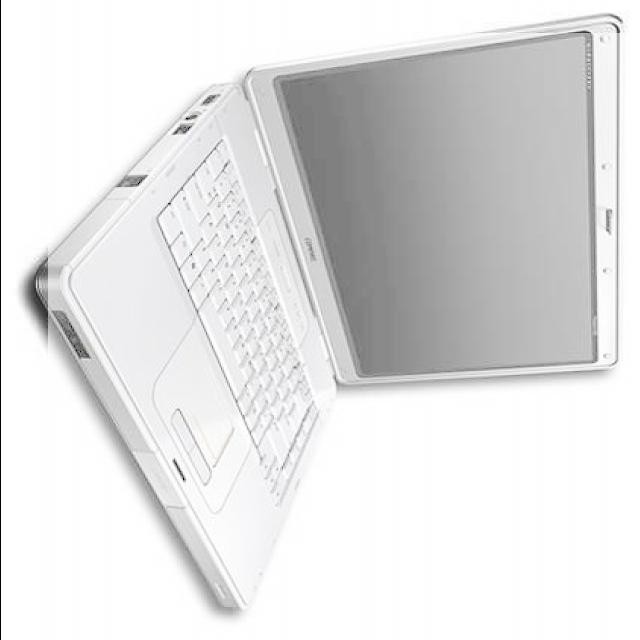-keyboard-: (48, 34, 632, 632)
